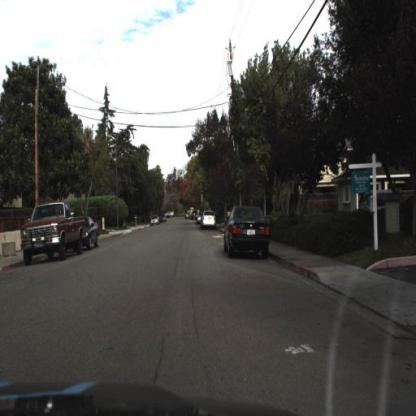car: (15, 193, 88, 271), (221, 197, 276, 271), (83, 211, 107, 258), (83, 213, 104, 252), (201, 207, 220, 235), (152, 216, 163, 230)
